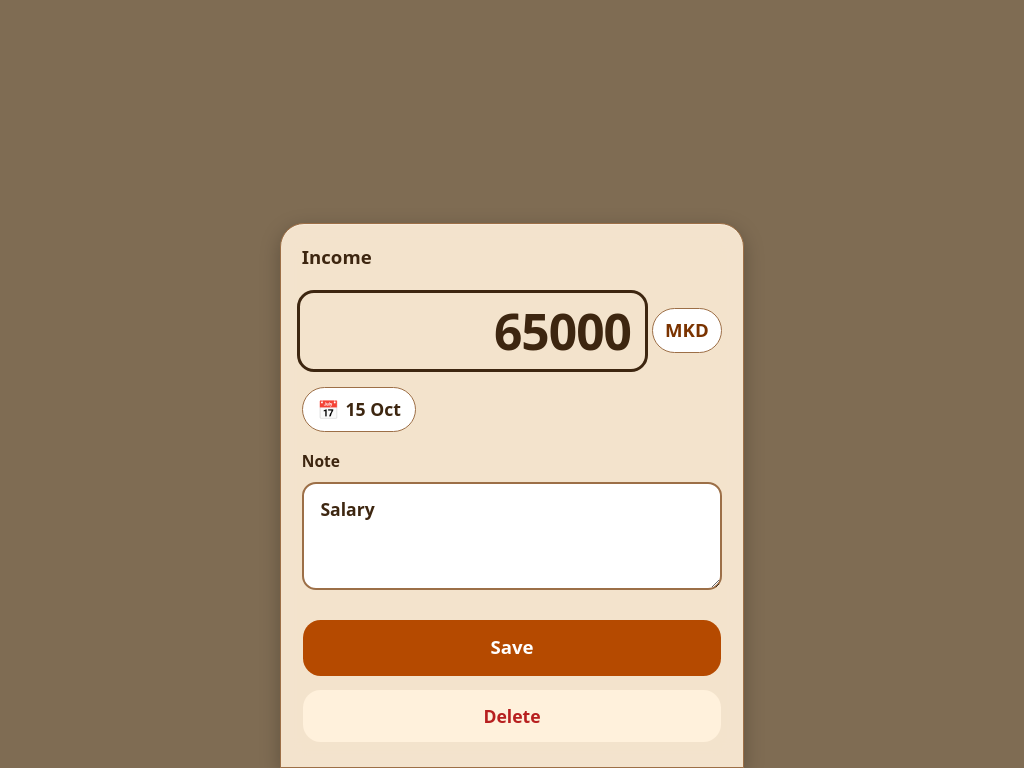
Test case: PersonalIncomeSheet, editing an entry made by a repeating income › the date › leaves the date chip of an income the person added open to change, with no reason
Click the button "📅 15 Oct": {"x": 359, "y": 410} [302, 387, 416, 432]
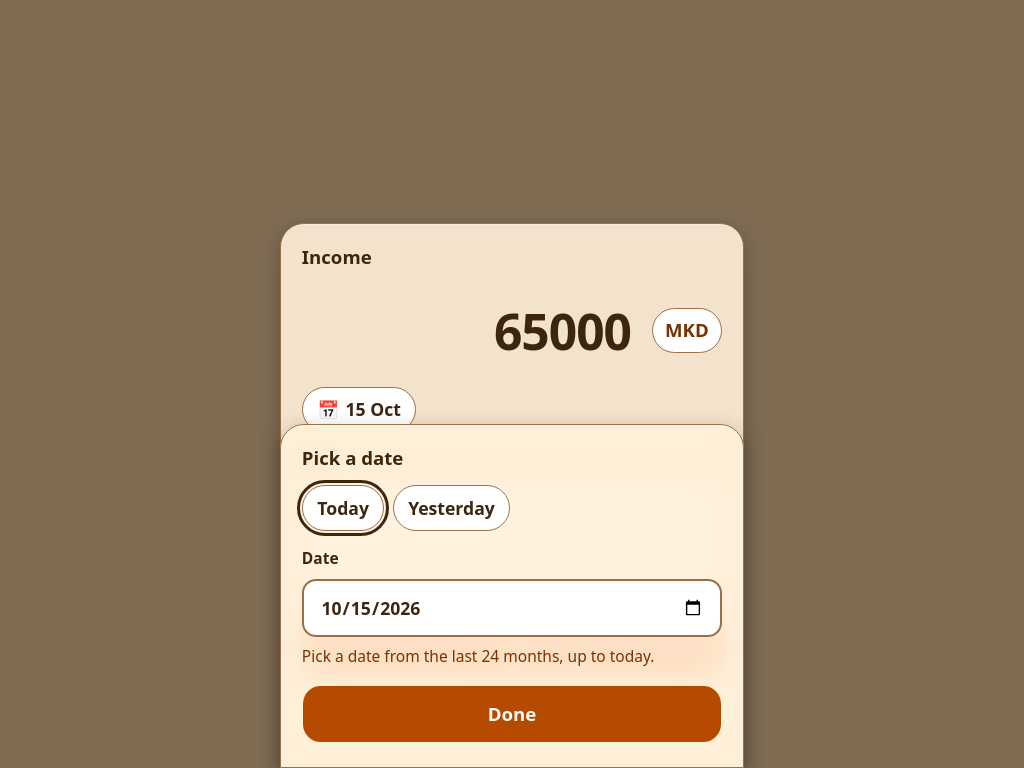
Result: the dialog "Pick a date" is shown at [280, 424, 744, 767]
